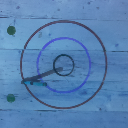Axe Tip: (25, 78, 34, 81)
